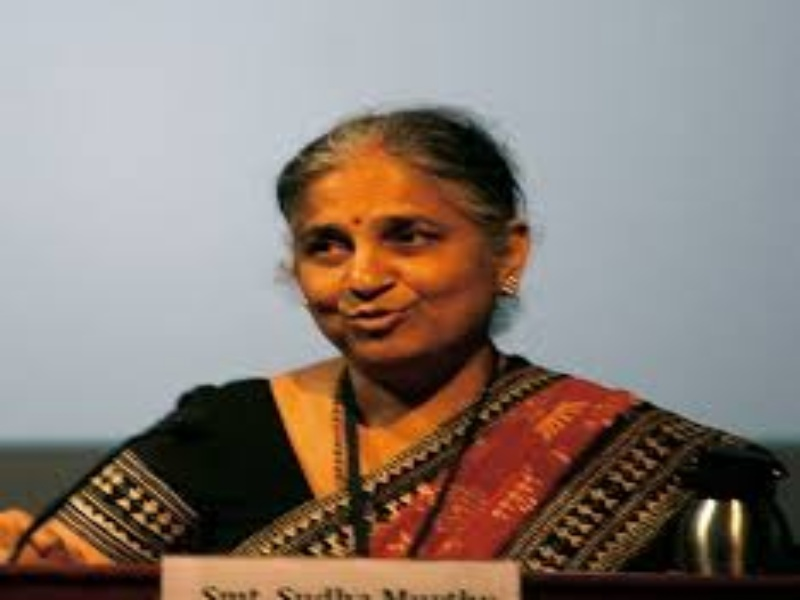person: (29, 99, 770, 557)
